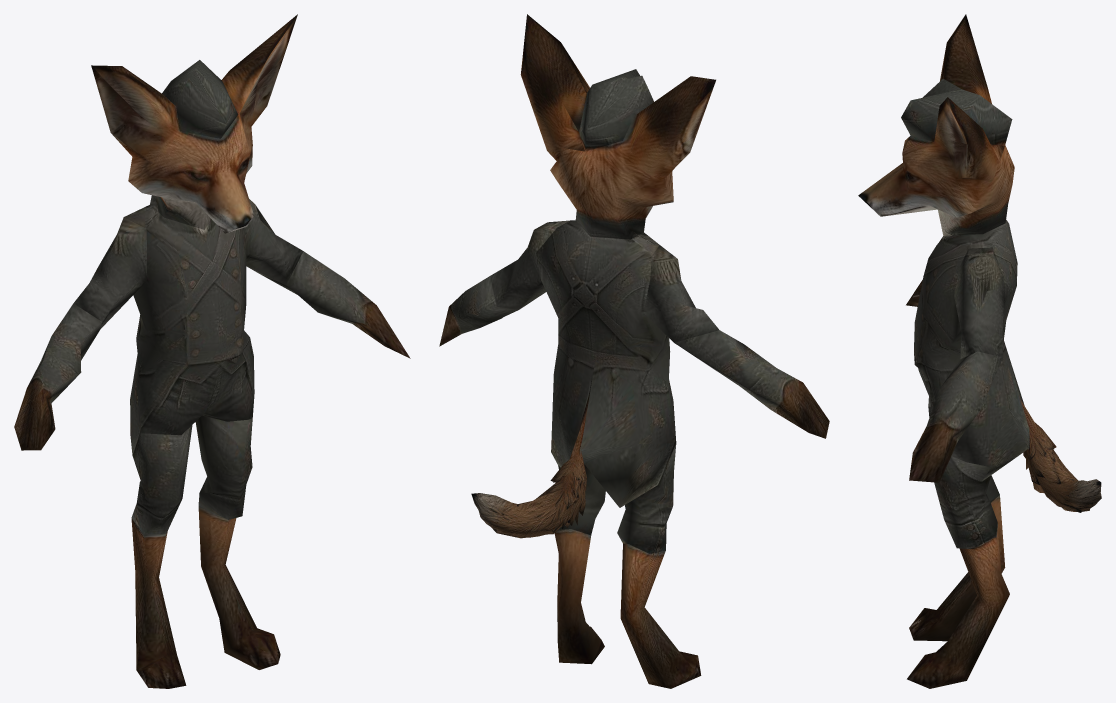
The model's file is infantry_base_gibs.glb.
The picture shows the model from 3 angles, left to right: view 1: azimuth 30°, elevation 25°; view 2: azimuth 150°, elevation 25°; view 3: azimuth 270°, elevation 25°; orthographic projection. The views are drawn at different scales.
Parts seen in each view (by area): view 1: Body.001, Head.001, Leg.L.001, Forarm.R.001, Leg.R.001, Upleg.L.001, Upleg.R.001, Forarm.L.001, Arm.R.001, Hat.001, Arm.L.001; view 2: Body.001, Head.001, Forarm.R.001, Leg.R.001, Leg.L.001, Hat.001, Arm.R.001, Upleg.R.001, Arm.L.001, Forarm.L.001, Upleg.L.001; view 3: Body.001, Head.001, Leg.L.001, Forarm.L.001, Arm.L.001, Upleg.L.001, Hat.001, Leg.R.001.
Part boxes in pixels (left/top/right/bottom): Body.001: left=124, top=205, right=254, bottom=454; Head.001: left=91, top=14, right=297, bottom=233; Leg.L.001: left=198, top=506, right=280, bottom=669; Forarm.R.001: left=14, top=303, right=101, bottom=450; Leg.R.001: left=131, top=518, right=186, bottom=688; Upleg.L.001: left=195, top=415, right=252, bottom=519; Upleg.R.001: left=131, top=425, right=192, bottom=534; Forarm.L.001: left=262, top=251, right=410, bottom=358; Arm.R.001: left=73, top=217, right=146, bottom=328; Hat.001: left=162, top=60, right=238, bottom=138; Arm.L.001: left=244, top=199, right=303, bottom=284; Body.001: left=471, top=220, right=676, bottom=538; Head.001: left=520, top=14, right=715, bottom=239; Forarm.R.001: left=674, top=330, right=829, bottom=438; Leg.R.001: left=620, top=543, right=701, bottom=688; Leg.L.001: left=554, top=529, right=604, bottom=664; Hat.001: left=579, top=69, right=653, bottom=151; Arm.R.001: left=644, top=245, right=719, bottom=342; Upleg.R.001: left=617, top=444, right=676, bottom=554; Arm.L.001: left=490, top=220, right=569, bottom=309; Forarm.L.001: left=439, top=276, right=518, bottom=346; Upleg.L.001: left=558, top=464, right=605, bottom=535; Body.001: left=914, top=219, right=1101, bottom=512; Head.001: left=858, top=14, right=1014, bottom=235; Leg.L.001: left=907, top=524, right=1009, bottom=688; Forarm.L.001: left=909, top=351, right=1002, bottom=482; Arm.L.001: left=954, top=247, right=1005, bottom=358; Upleg.L.001: left=934, top=456, right=997, bottom=548; Hat.001: left=901, top=79, right=1012, bottom=145; Leg.R.001: left=909, top=495, right=1005, bottom=641.
Size of the model in its own units: 0.6216 by 0.9834 by 0.359.
Materials: 2 (1 with a texture image).
